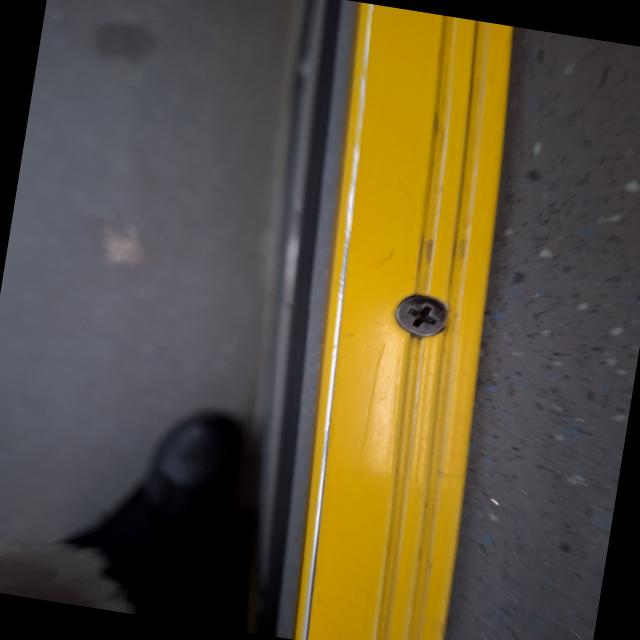Phillips: (390, 292, 454, 342)
